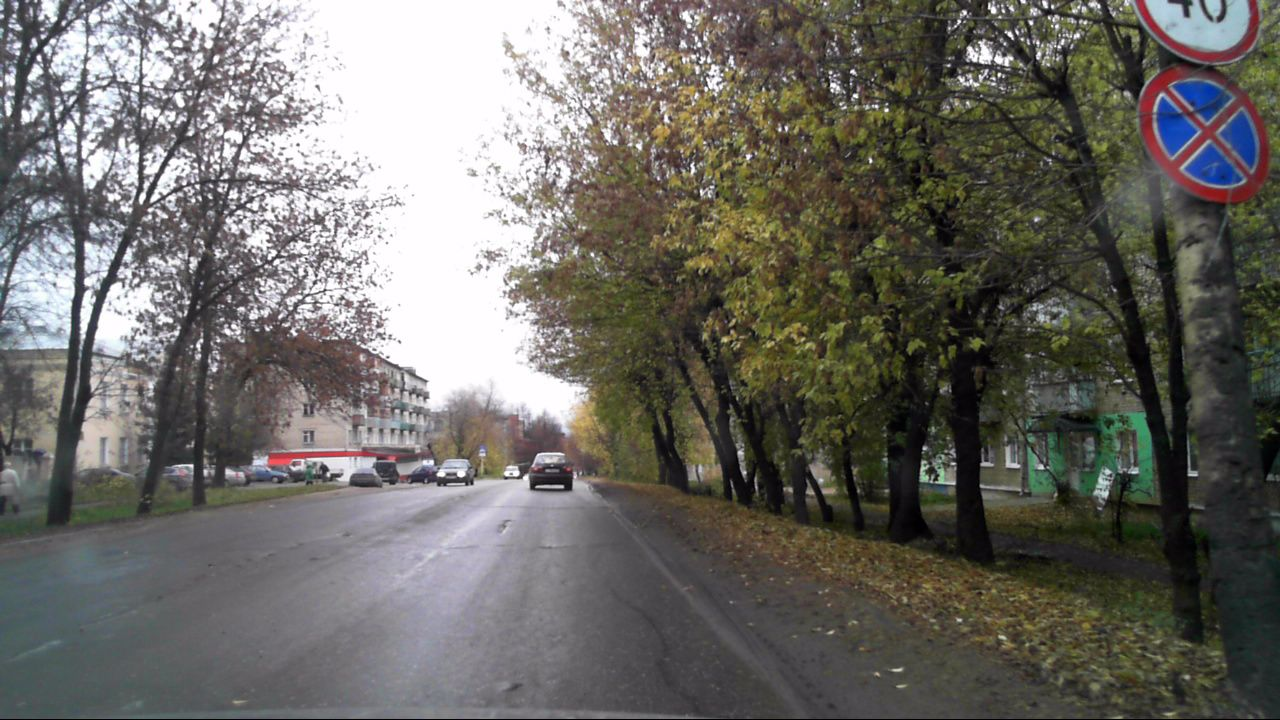No Parking: (1136, 62, 1271, 203)
